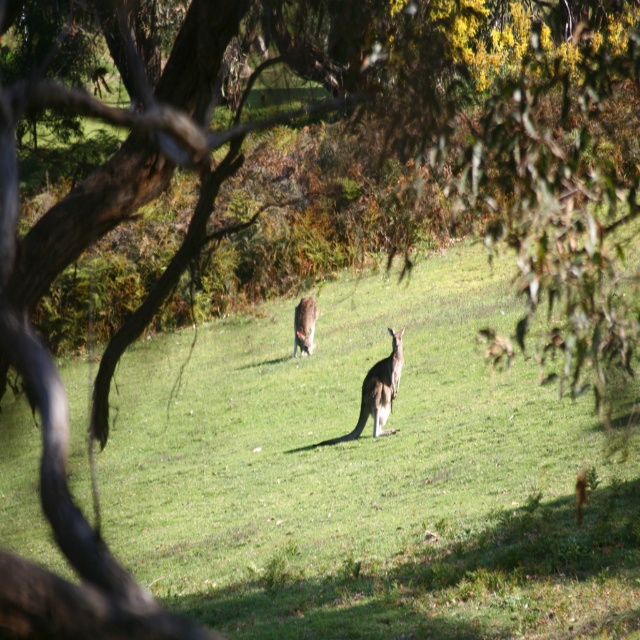Kangaroo: (282, 325, 406, 451), (290, 298, 316, 354)
